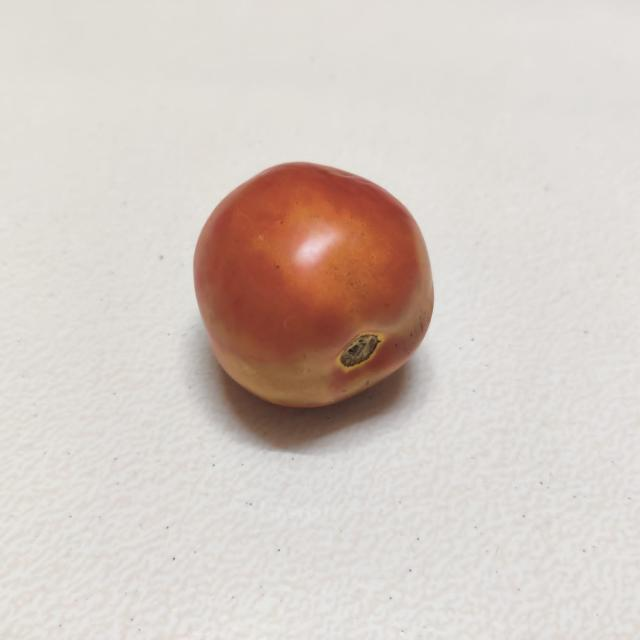Organik: (171, 151, 444, 415)
